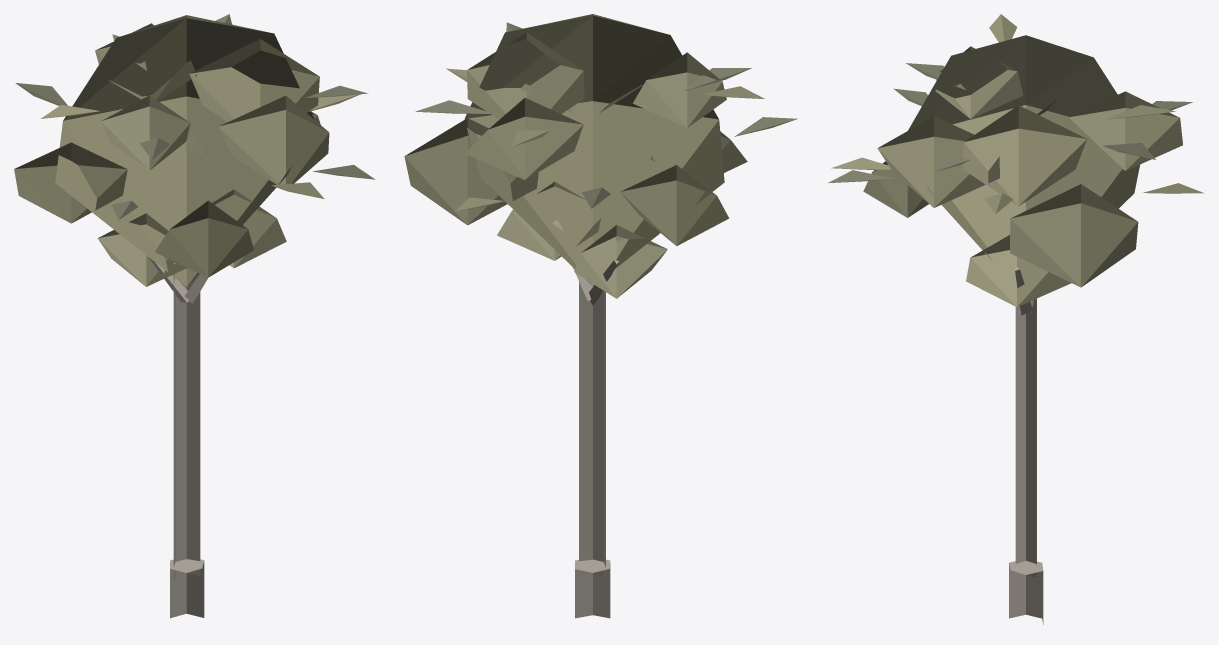
The model's file is shu.baigan__winter.glb.
3 views of the same model, side by side, from view 1: azimuth 30°, elevation 25°; view 2: azimuth 150°, elevation 25°; view 3: azimuth 270°, elevation 25° (orthographic). The views are drawn at different scales.
Parts seen in each view (by area): view 1: shu.baigan__winter; view 2: shu.baigan__winter; view 3: shu.baigan__winter.
Part boxes in pixels (box(x1,y1,x2,y2)): shu.baigan__winter: box(14, 14, 375, 618); shu.baigan__winter: box(404, 14, 797, 618); shu.baigan__winter: box(828, 14, 1203, 624).
Bounding box in the file's own units: 8.39 × 15.12 × 8.8.
